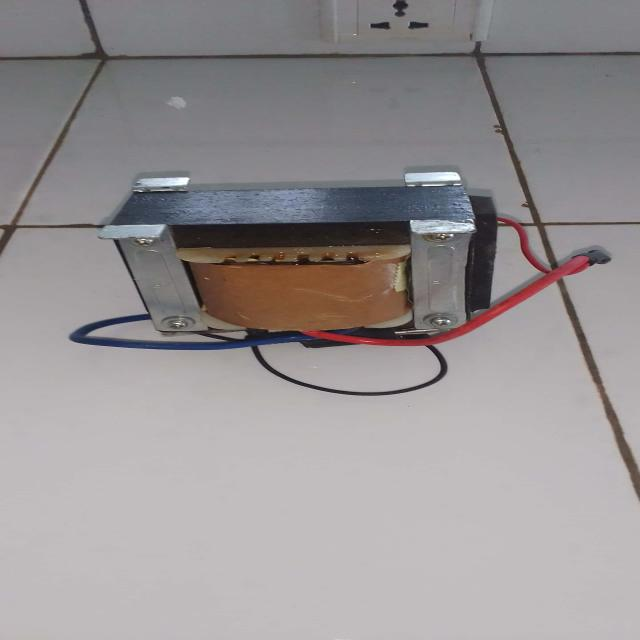Stepdown Transformer: (68, 172, 538, 352)
